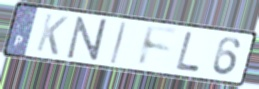6: (212, 36, 242, 78)
F: (136, 23, 180, 69)
I: (108, 20, 129, 66)
K: (33, 12, 70, 58)
L: (174, 30, 202, 75)
N: (65, 15, 109, 63)
